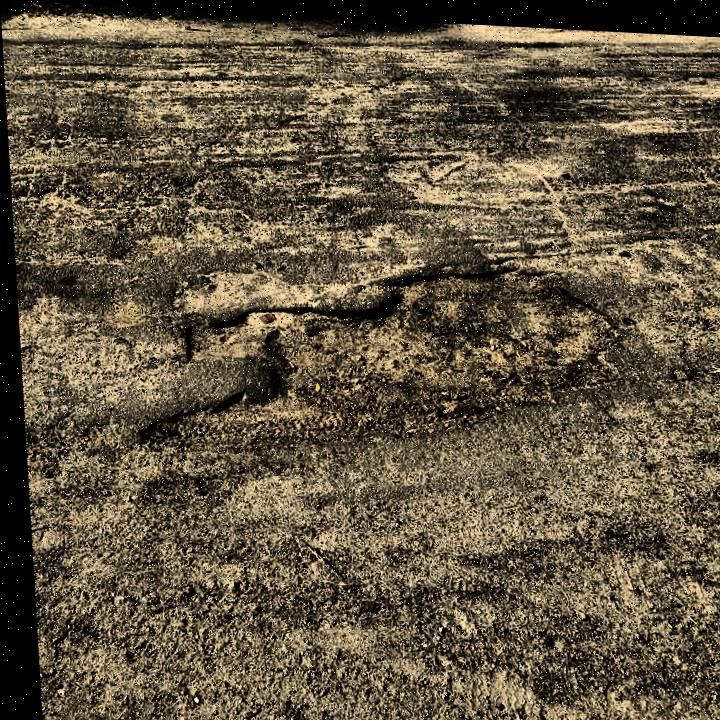pothole: (116, 239, 629, 473)
